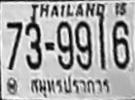1: (99, 21, 106, 70)
3: (25, 20, 42, 68)
6: (112, 20, 129, 68)
7: (6, 21, 24, 70)
9: (74, 20, 91, 70), (56, 21, 73, 69)
SPK: (29, 75, 111, 97)
